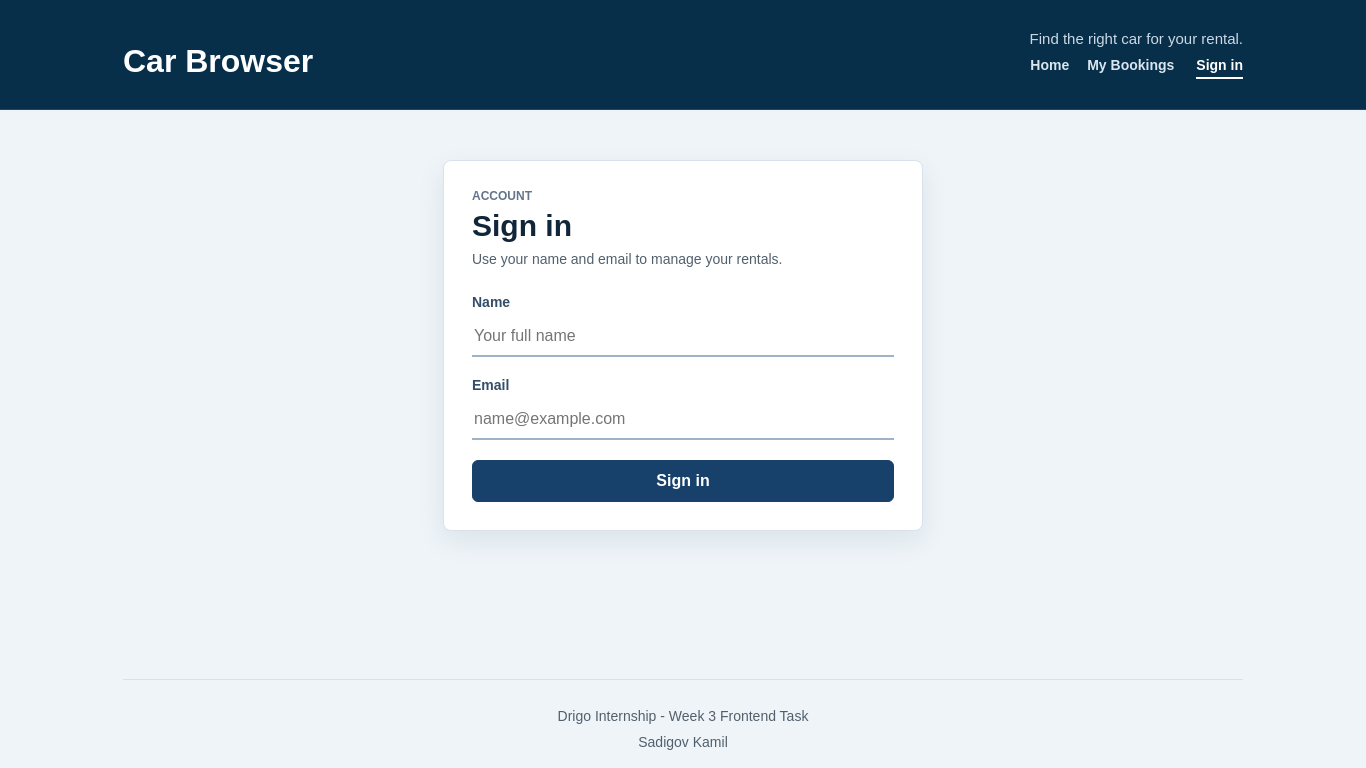
it: protected routes › returns the user to My Bookings after sign in
Expected: the heading "Sign in" is shown, [472,209,572,242]
In the field labelled "Name": coordinates (683, 337) [472,317,894,357], type "Sadig Sadigov"
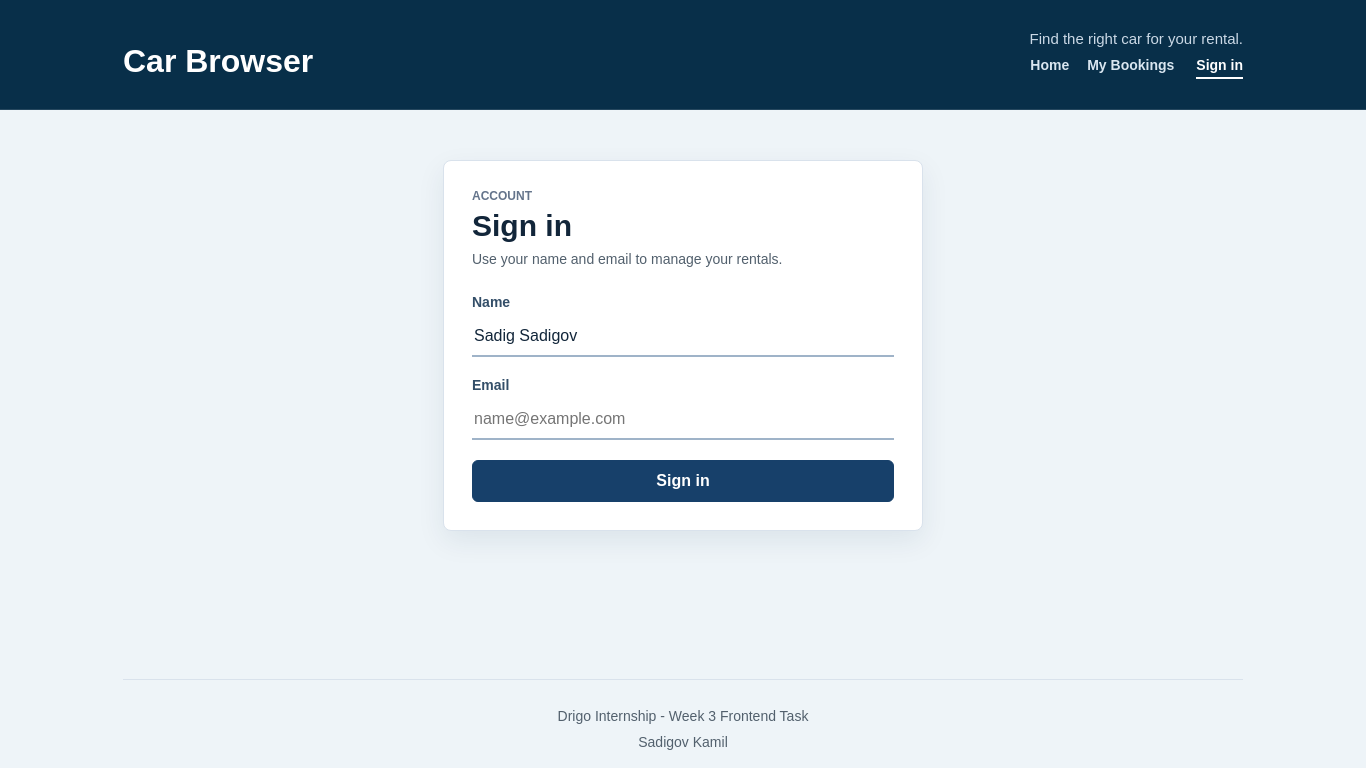
In the field labelled "Email": coordinates (683, 420) [472,400,894,440], type "sadig@example.com"
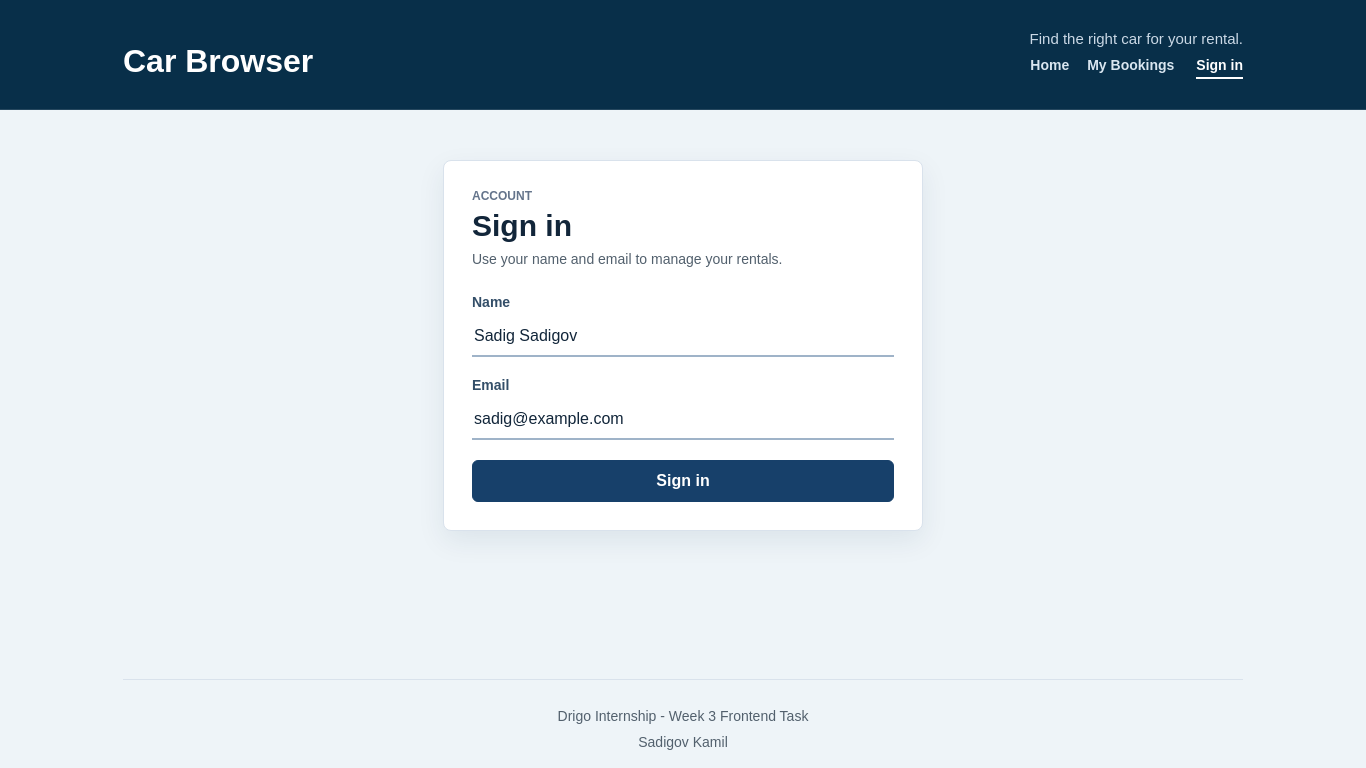
Click the button "Sign in": coordinates (683, 481) [472,460,894,502]
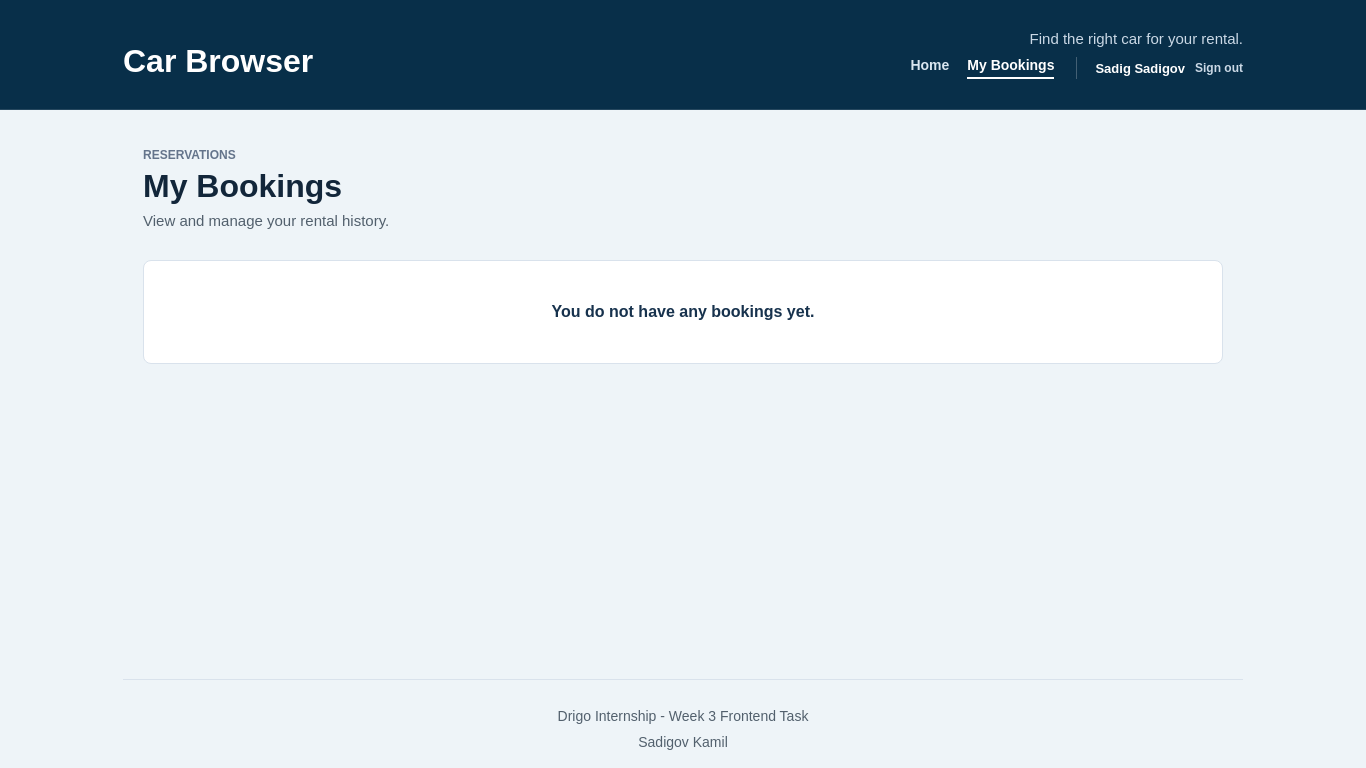
Expected: the heading "My Bookings" is shown, [143,168,342,204]
